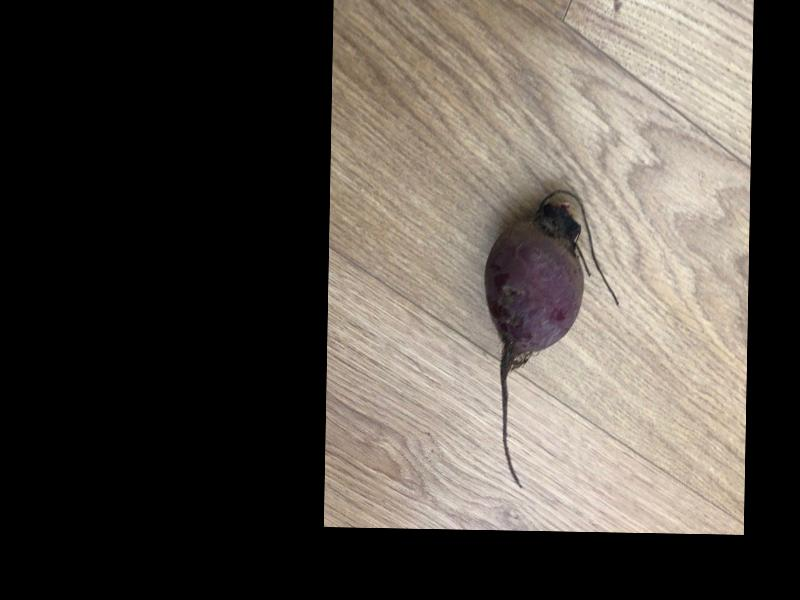Beet: (479, 189, 620, 490)
